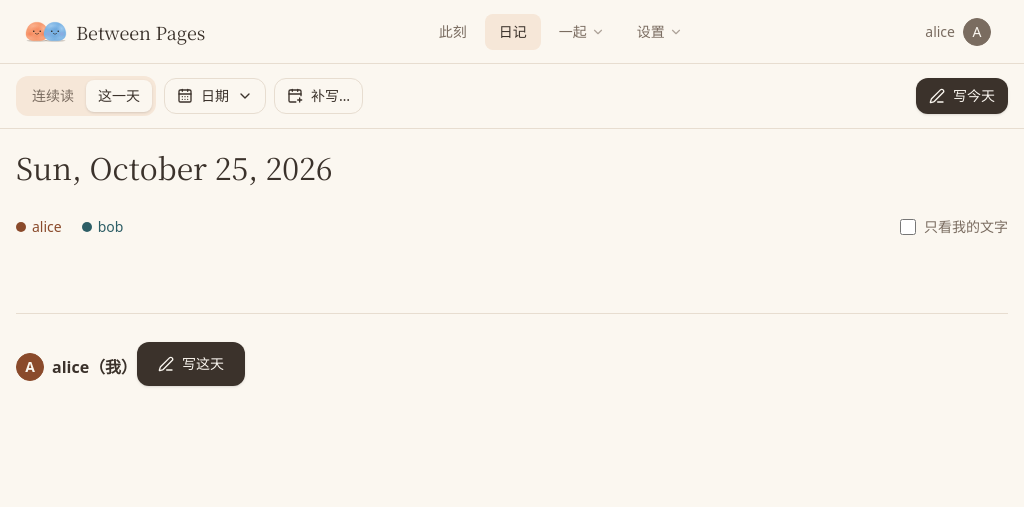
DaysWorkspace › narrow: 连续读 from a deep link opens the feed at that date
The width and height of the screenshot is (1024, 507).
Check: the button "写这天" is shown, box [137,342,245,386]
Check: the element "所有日记" is not shown
Click the link "连续读" at (53, 96), box [32,86,74,105]
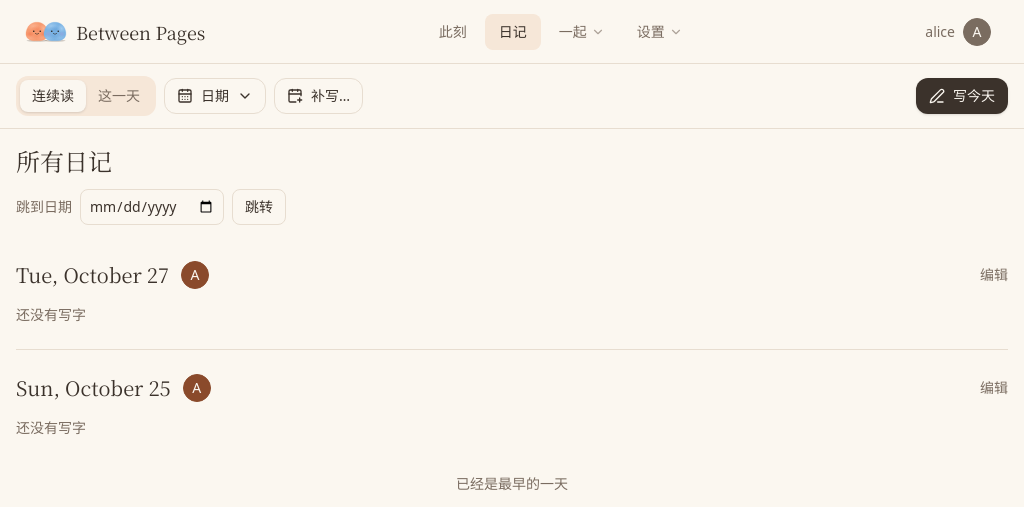
Check: the element showing "Sun, October 25 A 编辑 还没有写字" is shown, box [16,349,1008,462]
